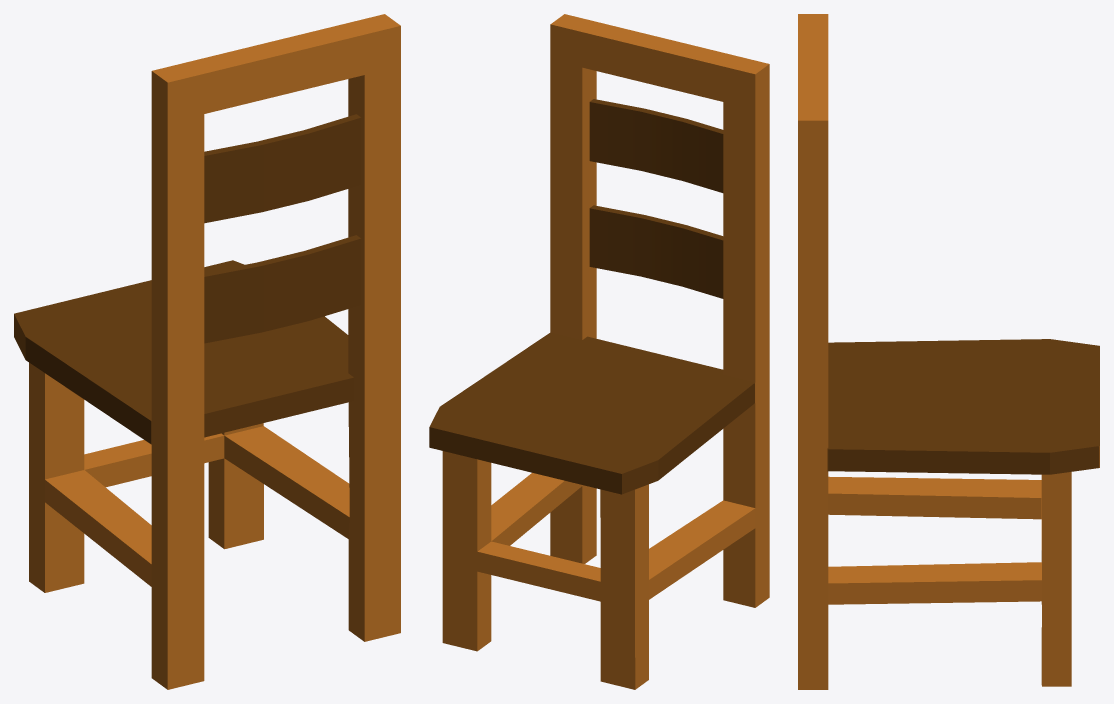
File: chair.FBX
3 renders of one model, left to right at view 1: azimuth 30°, elevation 25°; view 2: azimuth 150°, elevation 25°; view 3: azimuth 270°, elevation 25°, orthographic. The views are drawn at different scales.
Visible parts, largest first — view 1: chair; view 2: chair; view 3: chair.
Part boxes in pixels (<box>): chair: <box>14,14,400,689</box>; chair: <box>429,14,769,689</box>; chair: <box>798,14,1099,689</box>.
Bounding box in the file's own units: 18.74 × 43.72 × 21.
Materials: 1 (1 with a texture image).
